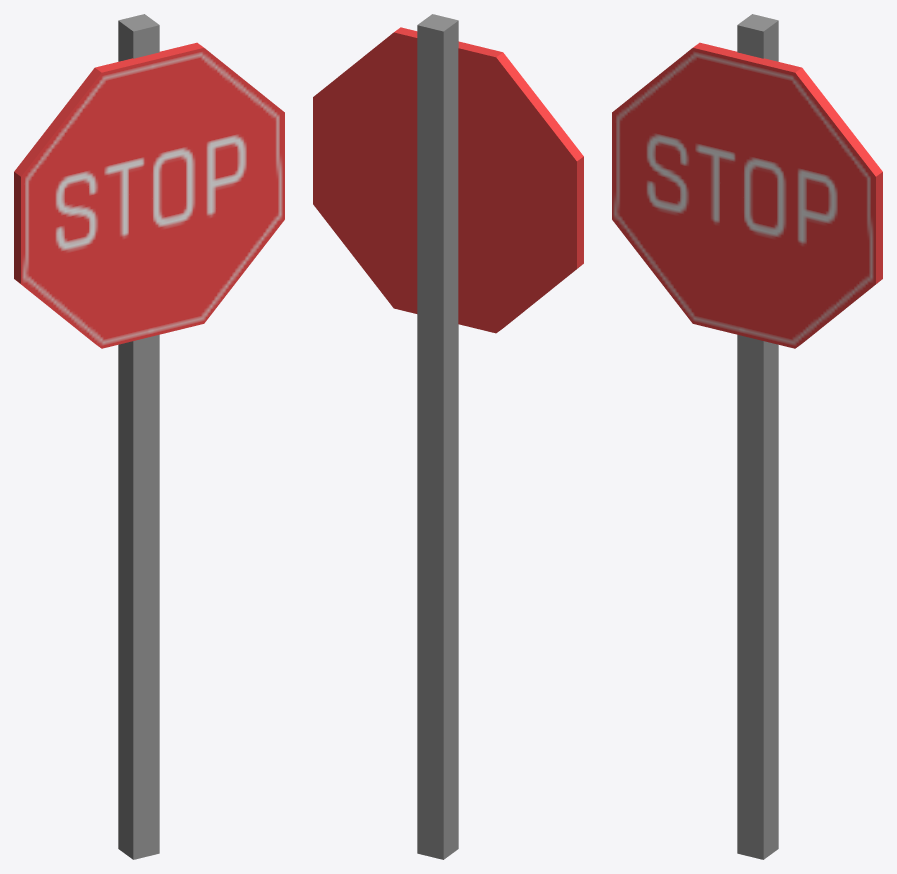
Rendered from StopSign.glb.
3 renders of one model, left to right at view 1: azimuth 30°, elevation 25°; view 2: azimuth 150°, elevation 25°; view 3: azimuth 330°, elevation 25°, orthographic.
Parts seen in each view (by area): view 1: StopSign; view 2: StopSign; view 3: StopSign.
Boxes of the visible parts, <box> form: StopSign: <box>14,14,284,859</box>; StopSign: <box>313,14,583,859</box>; StopSign: <box>612,14,882,859</box>.
Size of what is drawn, in the model's own units: 0.7773 by 2.33 by 0.1101.
1 material, 1 textured.
